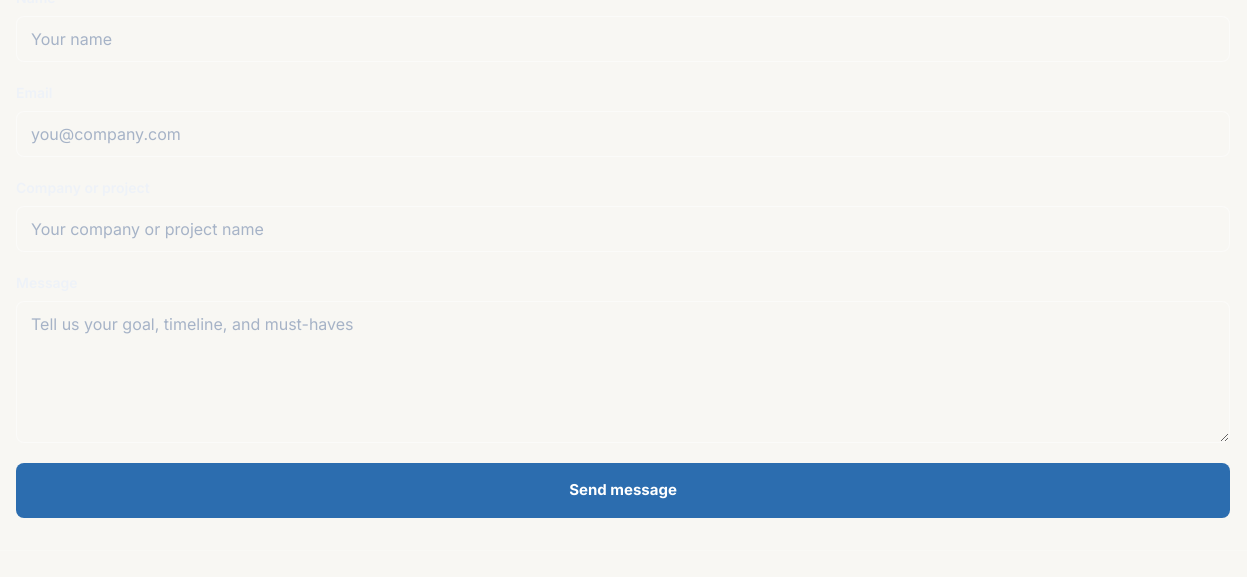
Test: Contact › shows the direct-email fallback when the submission fails
In the field labelled "Name": (623, 39) x1=16 y1=16 x2=1230 y2=62, type " Ada Lovelace "
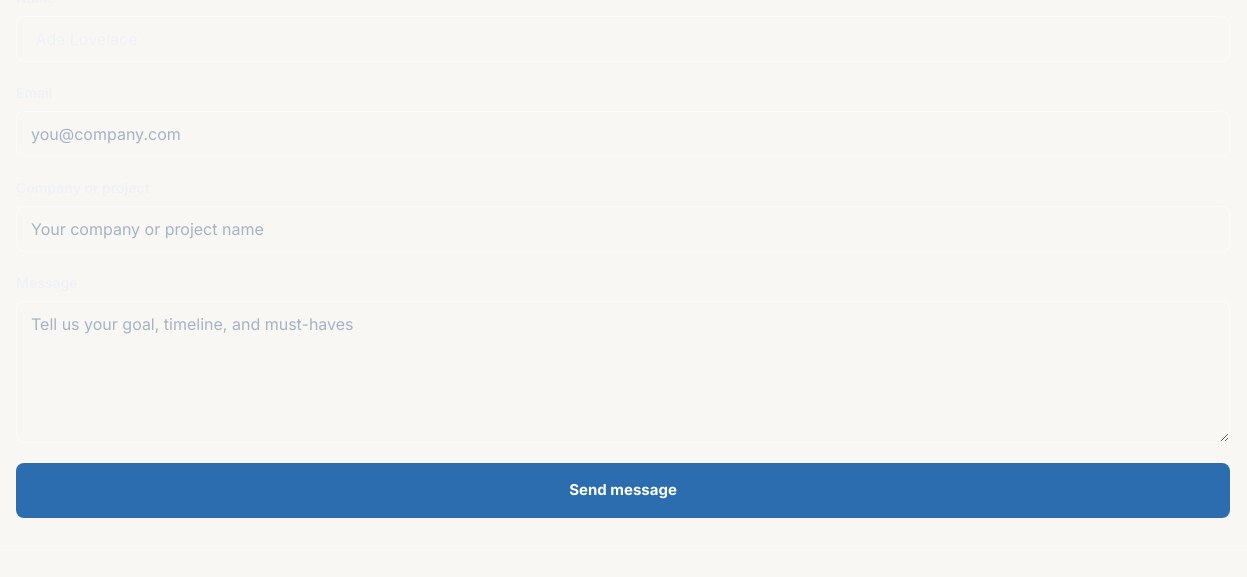
In the field labelled "Email": (623, 134) x1=16 y1=111 x2=1230 y2=157, type " ada@example.com "
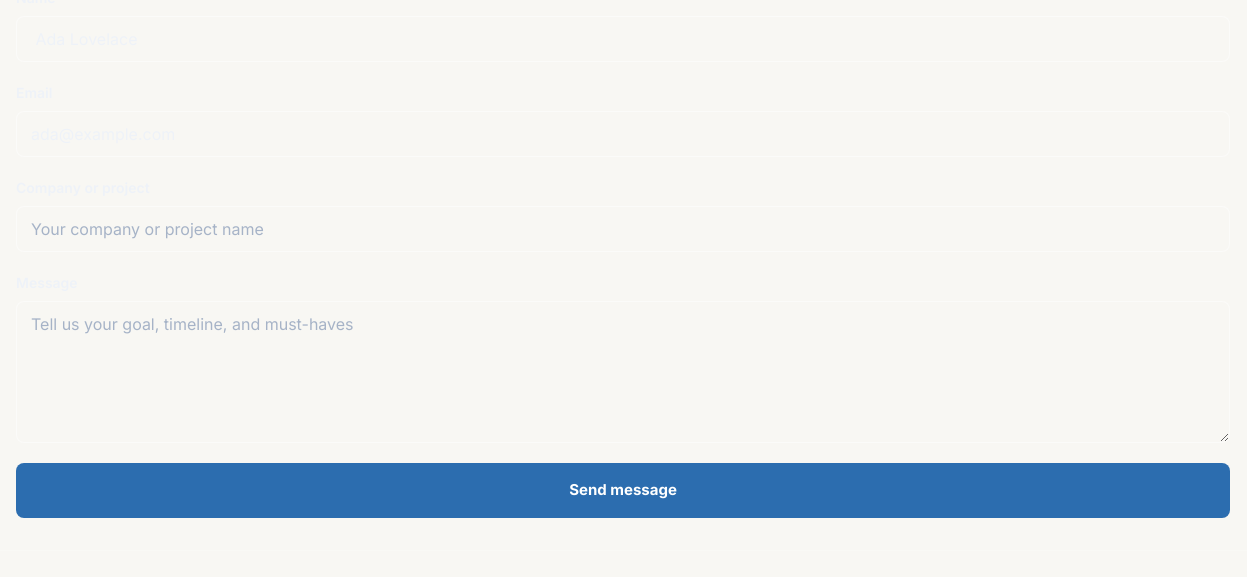
In the field labelled "Company or project": (623, 229) x1=16 y1=206 x2=1230 y2=252, type "Acme"
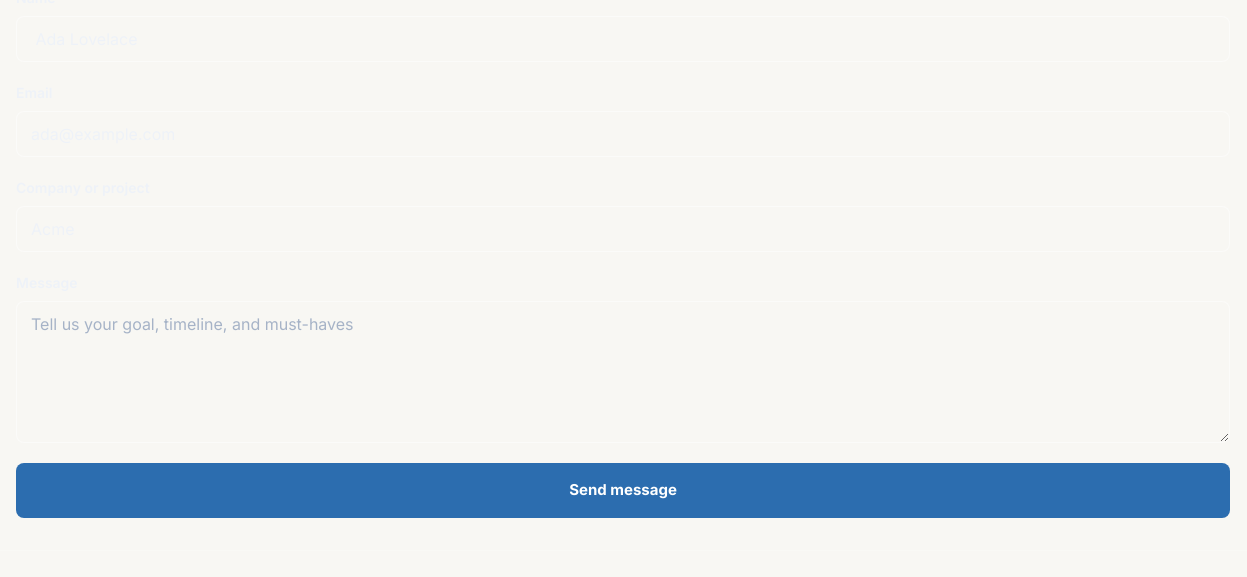
In the text box labelled "Message": (623, 372) x1=16 y1=301 x2=1230 y2=443, type " Build a portal "
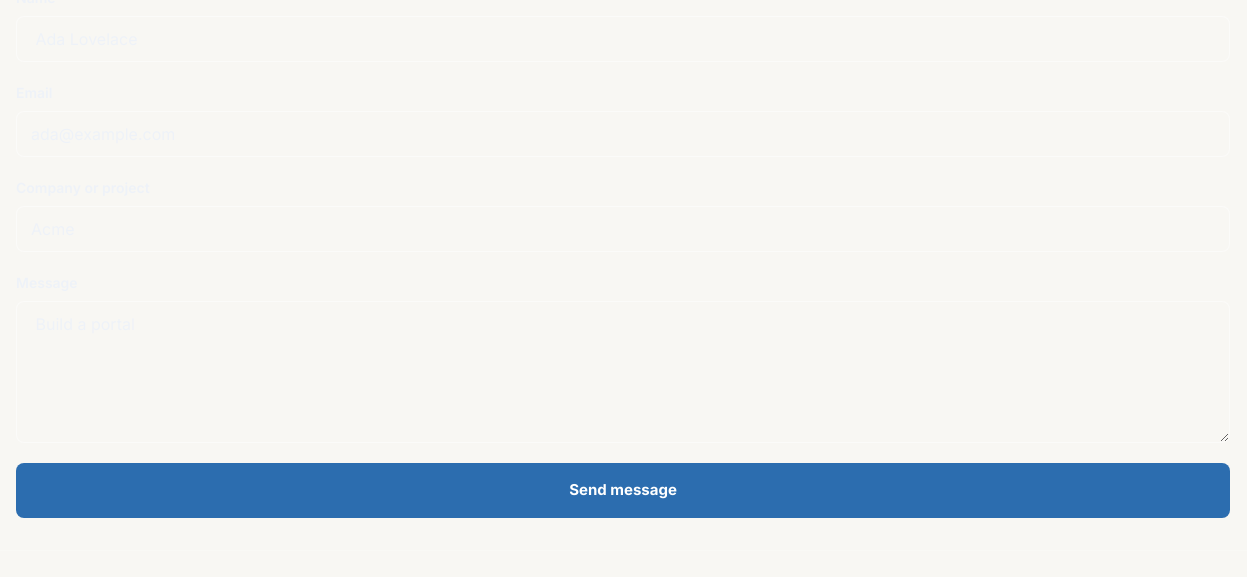
Click the button "Send message": (623, 490) x1=16 y1=463 x2=1230 y2=518
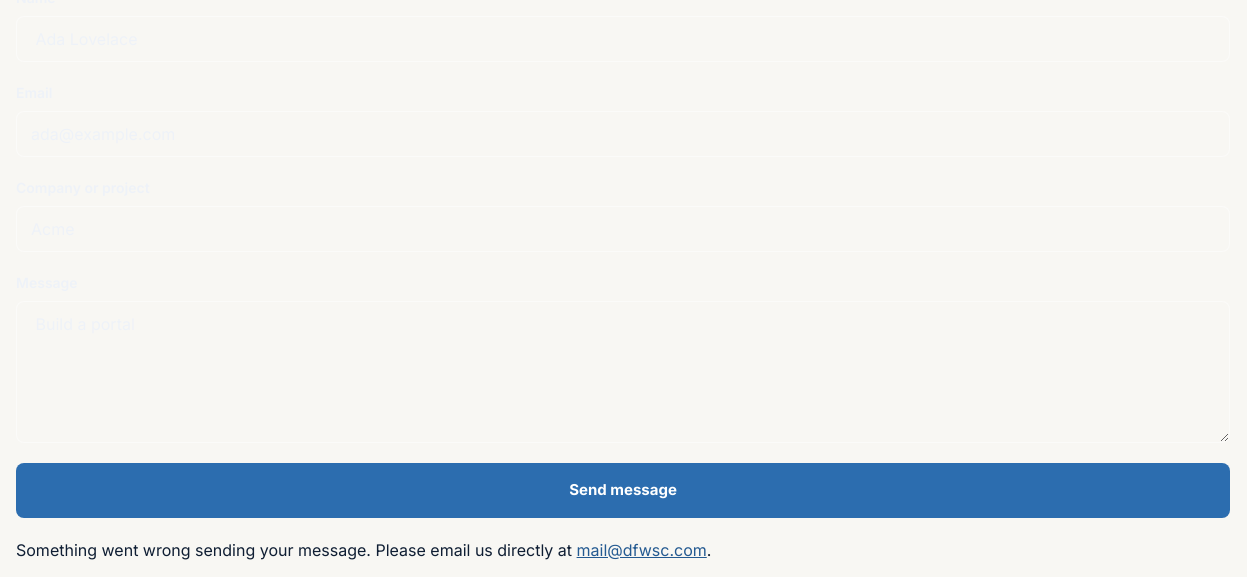
expect the text "Something went wrong sending your message" is shown: met, box x1=16 y1=540 x2=572 y2=560
